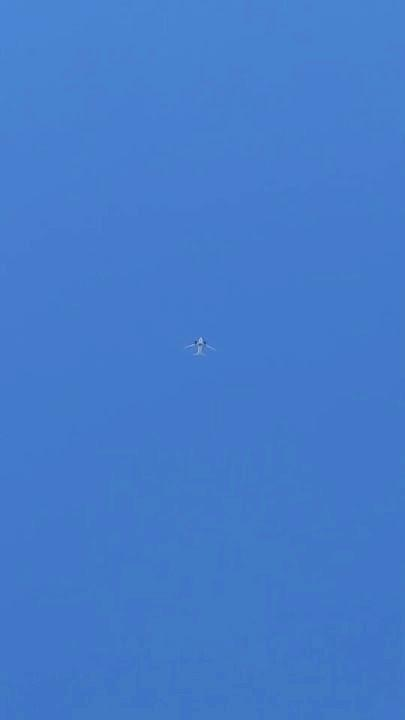Plane: (179, 325, 223, 370)
